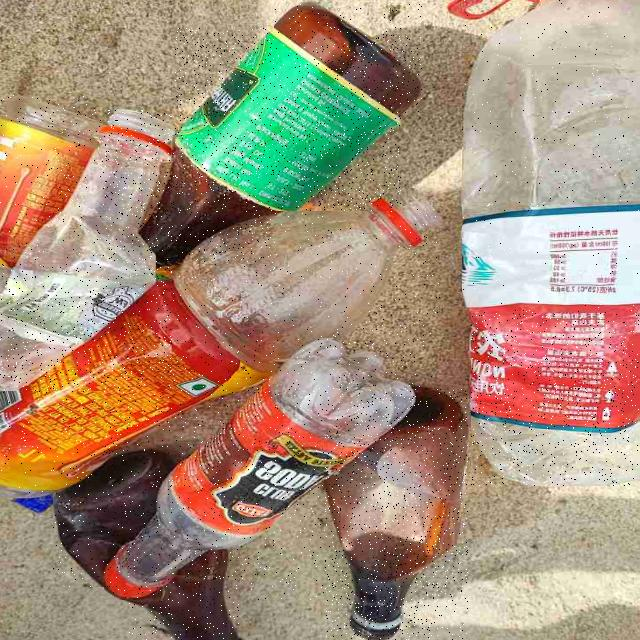glass: (325, 389, 468, 640), (54, 451, 173, 586), (275, 4, 422, 113), (140, 149, 277, 263), (129, 550, 240, 640)
paper: (175, 28, 401, 211)
plastic: (0, 202, 440, 496), (105, 339, 414, 599), (463, 0, 639, 307), (0, 108, 172, 390), (472, 310, 639, 485), (0, 95, 99, 265)
